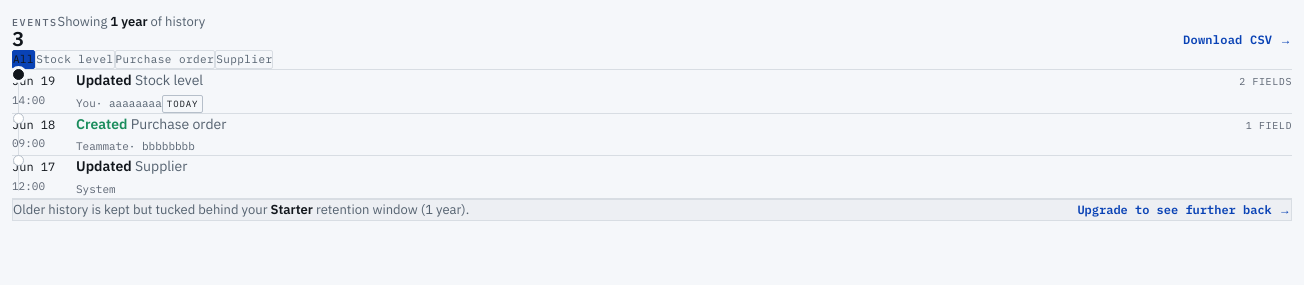
Test case: audit chain — the vertical chain of events › expands the before/after diff on click and collapses again
Click the button that starts with "Jun 19": (34, 81) 12,69 -> 1292,113
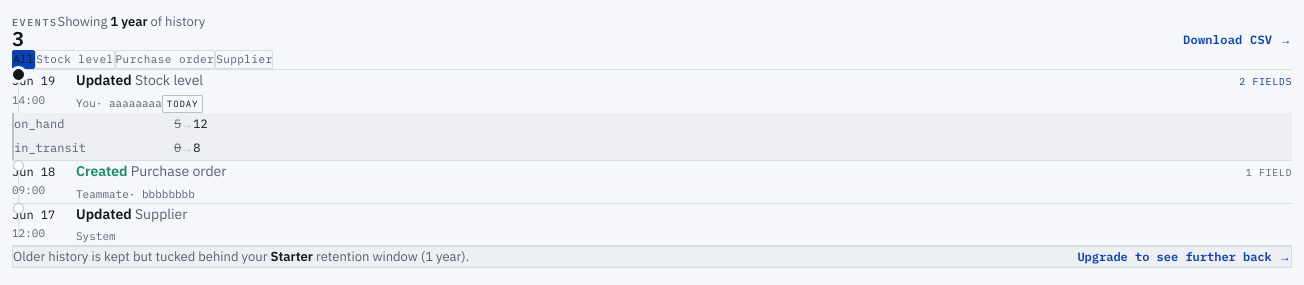
Now the element with test id "audit-diff" shows "on_hand", box 14,116 -> 64,131
Now the text "→" in the row of "on_hand" is shown, box 181,116 -> 193,131
// Clicking again collapses it.
Click the button that starts with "Jun 19": (34, 81) 12,69 -> 1292,113
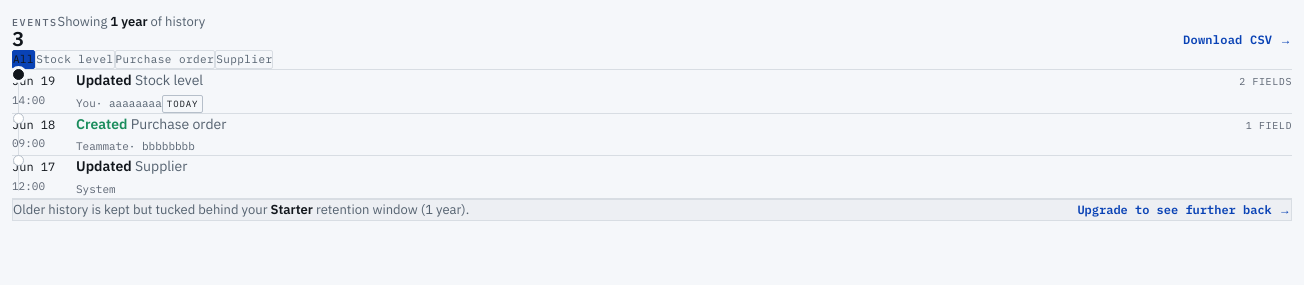
Now the element with test id "audit-diff" is gone
